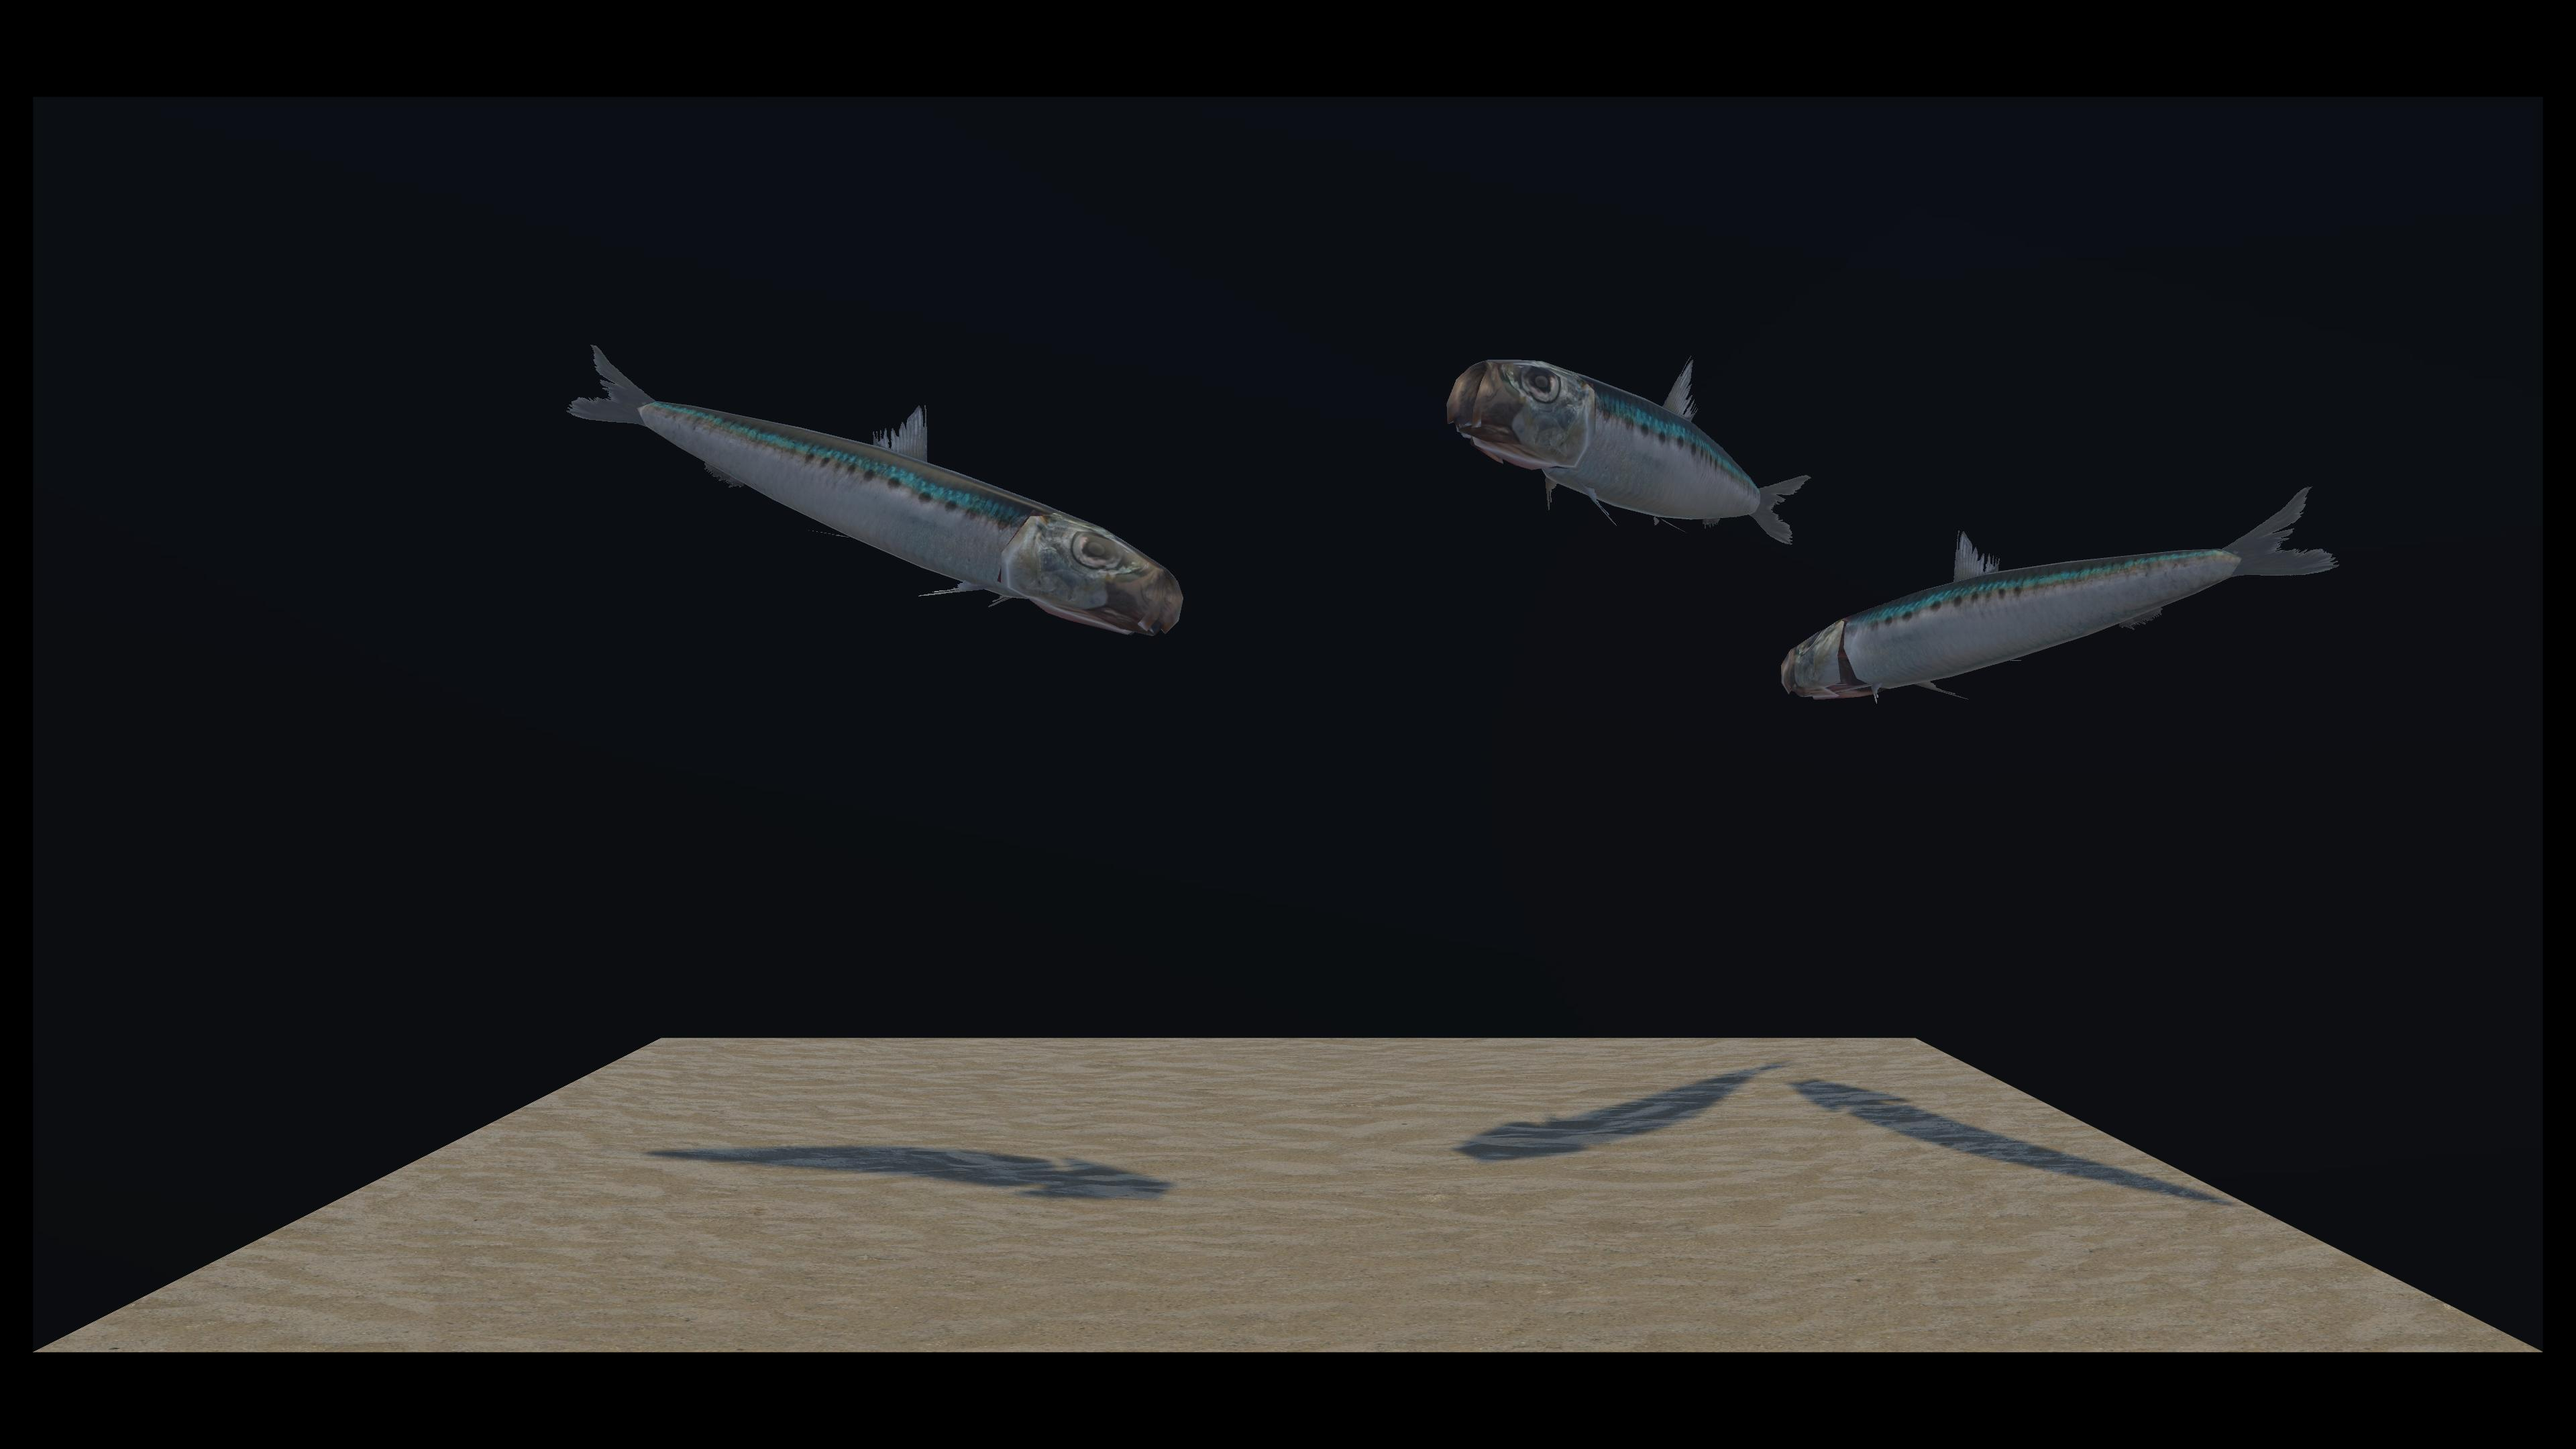Sardine_Front: (807, 361, 2339, 713), (794, 361, 1806, 543), (573, 343, 1162, 619)
